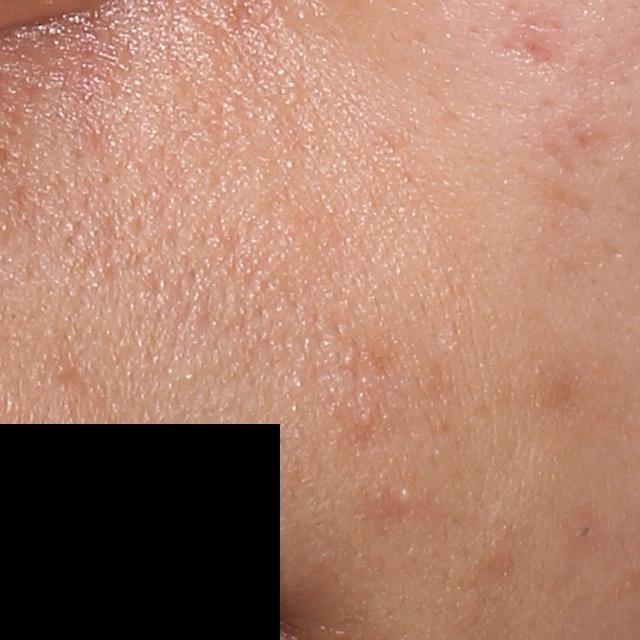atrophic_scar: (515, 37, 562, 75)
comedo: (570, 522, 592, 543)
